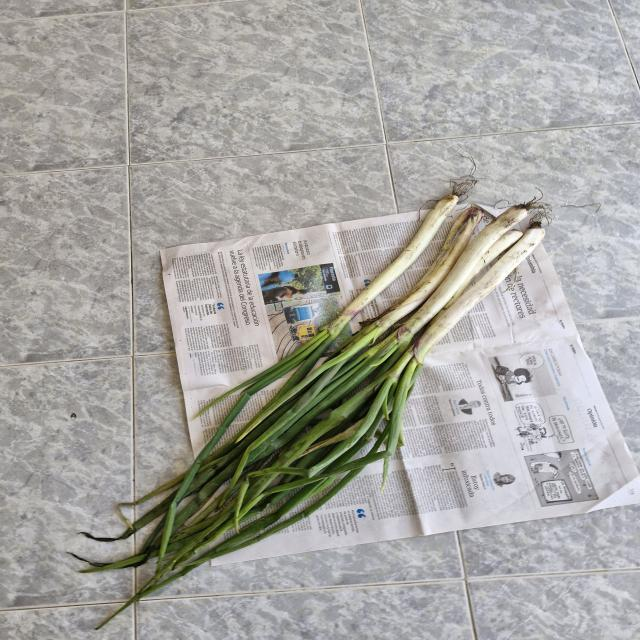green_onion: (140, 215, 547, 591), (145, 190, 461, 538)
